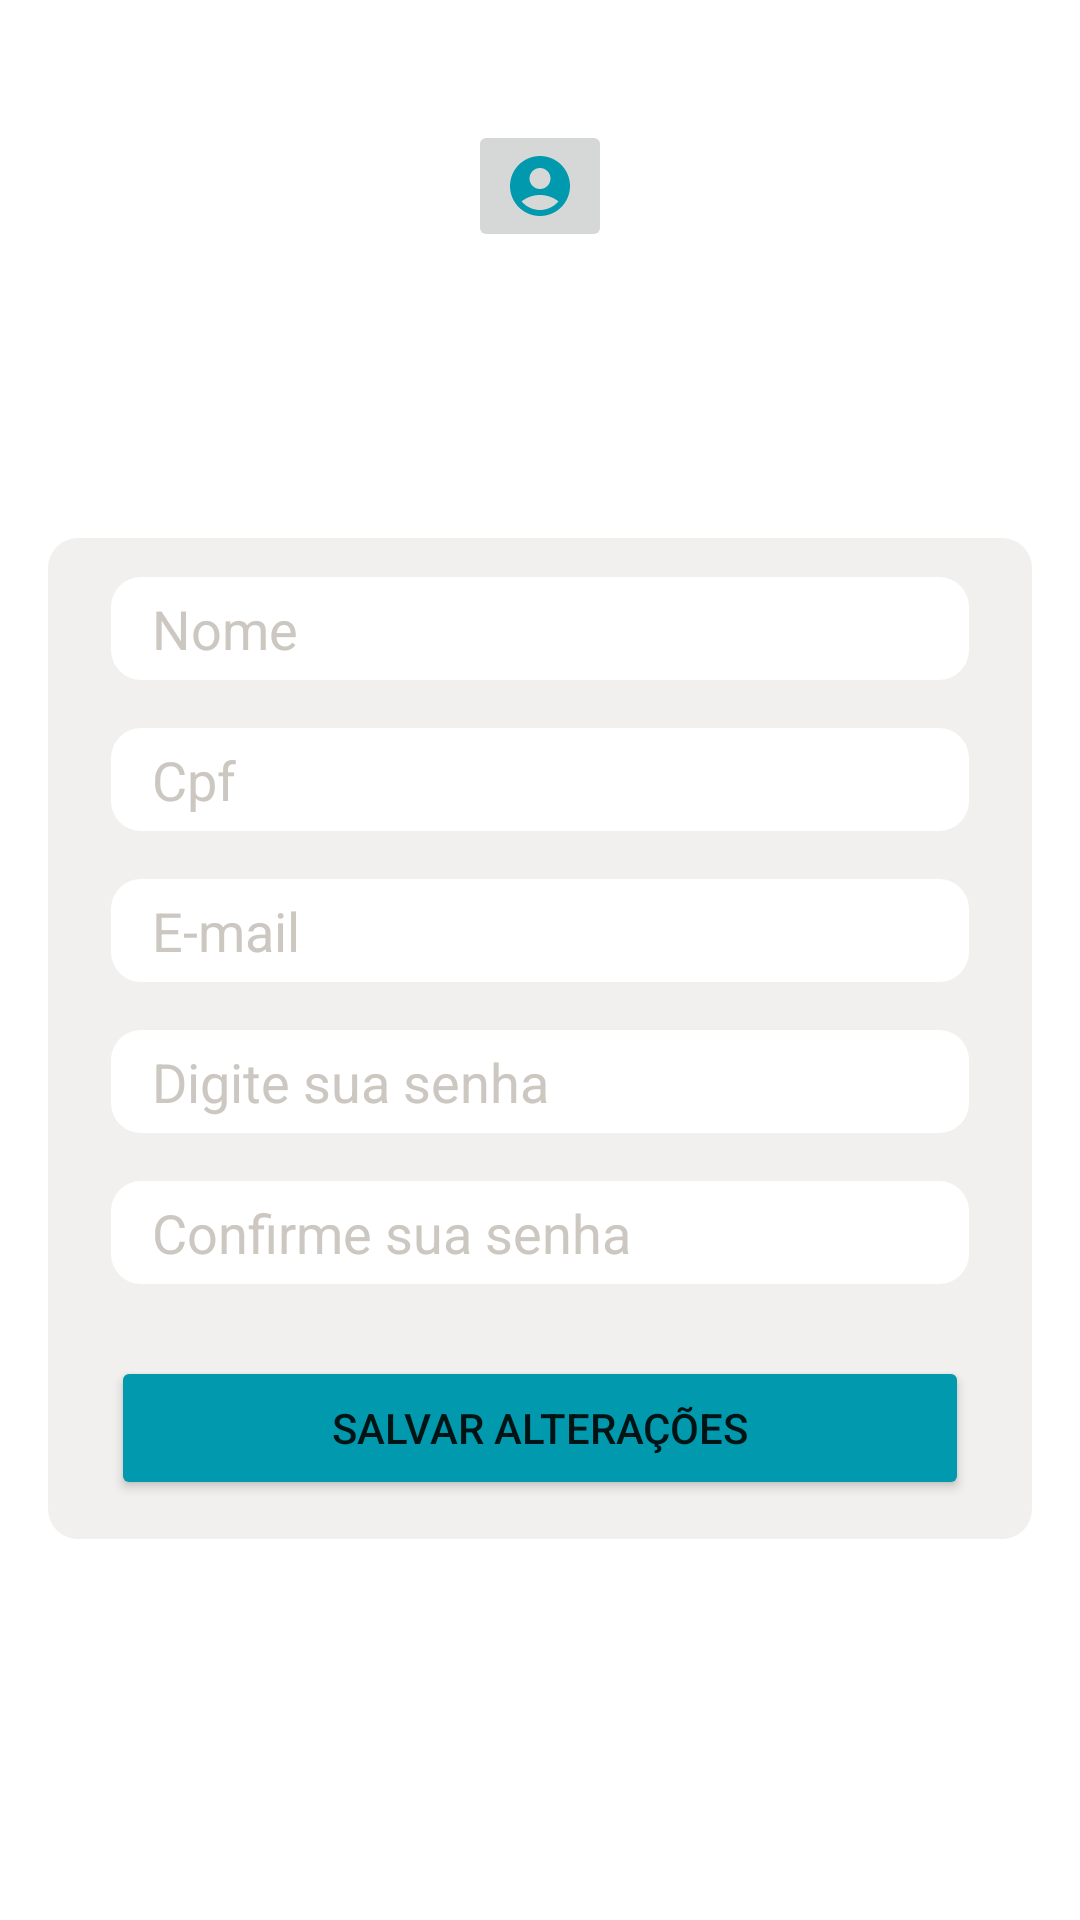

Named icons in this screenshot (1080px×1920px) and their bounding boxes, region(x1, y1, x2, y2):
imgperfil: region(480, 138, 600, 234)
